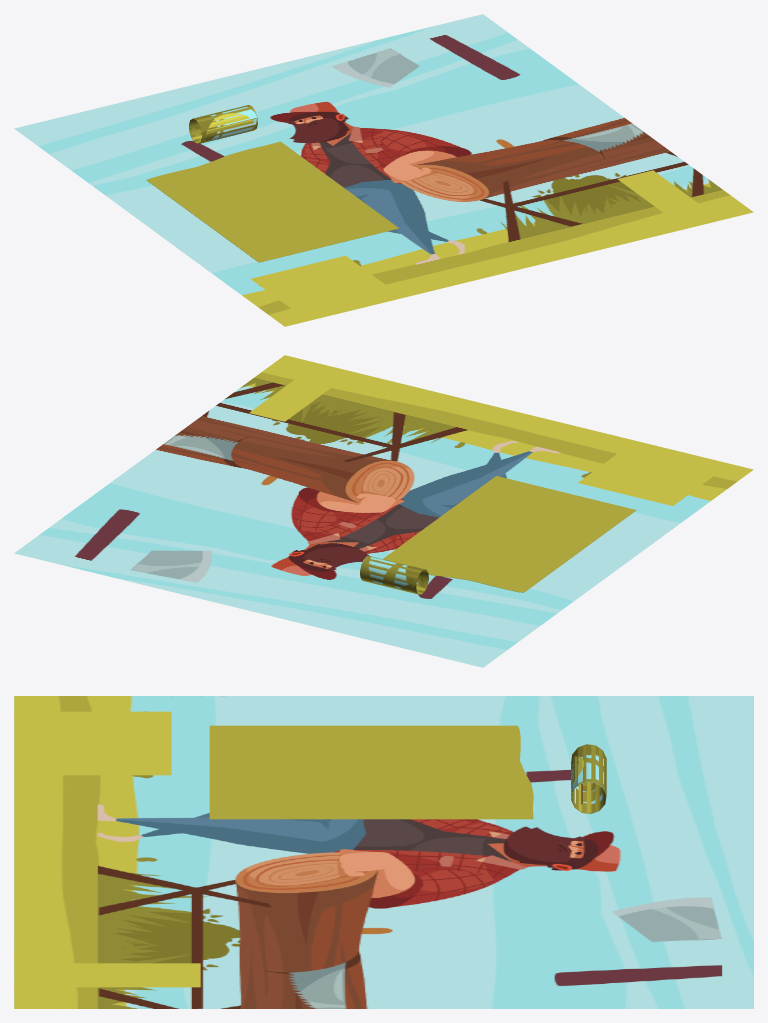
3 renders of one model, top to bottom at view 1: azimuth 30°, elevation 25°; view 2: azimuth 150°, elevation 25°; view 3: azimuth 270°, elevation 25°, orthographic. The views are drawn at different scales.
Visible parts, largest first — view 1: Mesh, Blend1, Blend; view 2: Mesh, Blend1, Blend; view 3: Mesh, Blend1, Blend.
Boxes of the visible parts, <box> form: Mesh: <box>14,14,753,326</box>; Blend1: <box>146,141,398,262</box>; Blend: <box>189,105,257,143</box>; Mesh: <box>14,355,753,667</box>; Blend1: <box>383,476,636,592</box>; Blend: <box>360,556,428,594</box>; Mesh: <box>14,696,753,1008</box>; Blend1: <box>209,725,533,819</box>; Blend: <box>571,744,606,813</box>.
Bounding box in the file's own units: 2400 × 116 × 2400.
